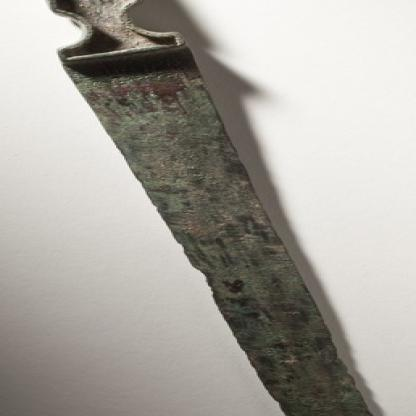knife: (0, 0, 410, 415)
